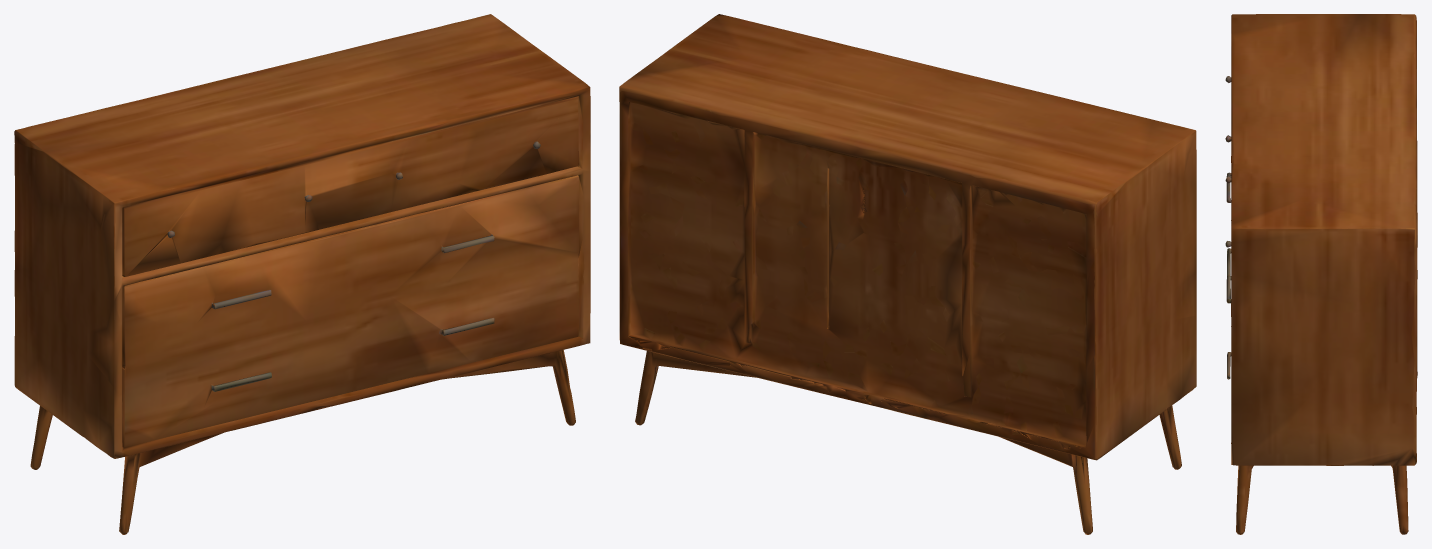
The model's file is iombR15CFTNme030Kxwsx.glb.
3 renders of one model, left to right at view 1: azimuth 30°, elevation 25°; view 2: azimuth 150°, elevation 25°; view 3: azimuth 270°, elevation 25°, orthographic. The views are drawn at different scales.
Visible parts, largest first — view 1: geometry_0; view 2: geometry_0; view 3: geometry_0.
Boxes of the visible parts, x1,y1,x2,y2 form: geometry_0: (14,14,590,534); geometry_0: (619,14,1196,534); geometry_0: (1225,14,1417,534).
Bounding box in the file's own units: 1 × 0.6792 × 0.3787.
Materials: 1 (1 with a texture image).
